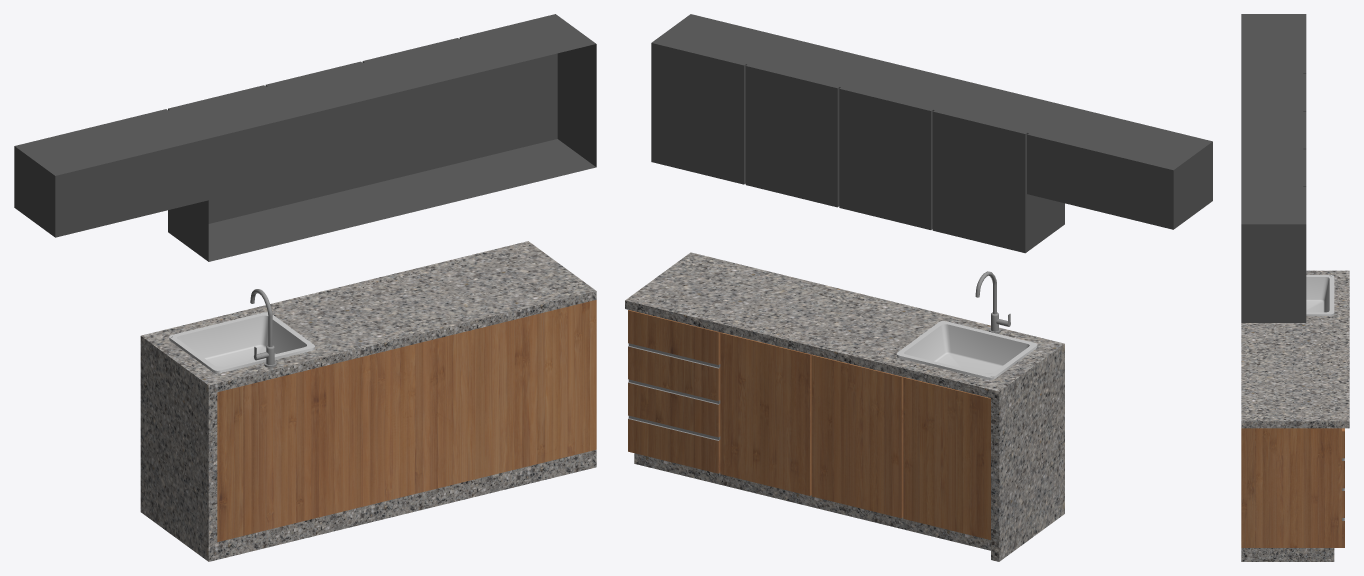
Rendered from MSH_Cocina_D1.FBX.
The picture shows the model from 3 angles, left to right: view 1: azimuth 30°, elevation 25°; view 2: azimuth 150°, elevation 25°; view 3: azimuth 270°, elevation 25°; orthographic projection. The views are drawn at different scales.
Parts seen in each view (by area): view 1: MSH_Cocina_D1; view 2: MSH_Cocina_D1; view 3: MSH_Cocina_D1.
Part boxes in pixels (x1,y1,x2,y2): MSH_Cocina_D1: (14, 14, 596, 561); MSH_Cocina_D1: (625, 14, 1212, 561); MSH_Cocina_D1: (1241, 14, 1349, 561).
Bounding box in the file's own units: 321 × 240 × 70.
